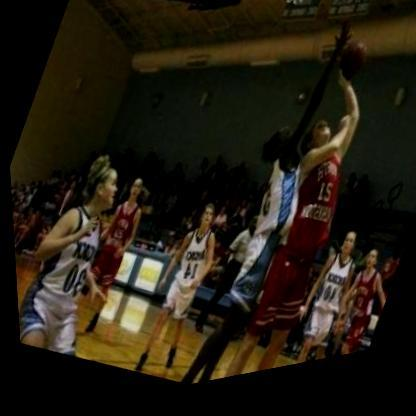basketball: (328, 46, 371, 95)
